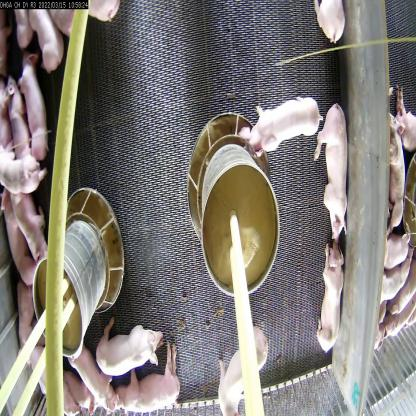Pig: (309, 82, 353, 248), (226, 90, 321, 162), (105, 336, 186, 415), (15, 54, 59, 174), (0, 194, 45, 307), (218, 324, 270, 415), (0, 122, 49, 218), (7, 170, 52, 272), (303, 248, 342, 362), (95, 310, 160, 376), (5, 76, 40, 184), (65, 327, 107, 411), (40, 356, 88, 416), (26, 8, 66, 79), (14, 267, 44, 361), (306, 0, 355, 45)
